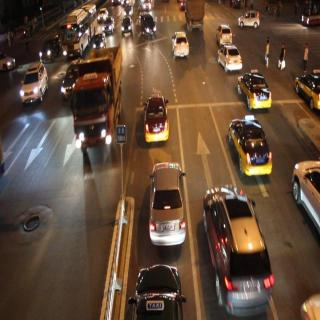BigCar: (68, 46, 130, 146), (67, 2, 96, 54), (186, 0, 207, 37)
Car: (202, 187, 274, 318), (148, 159, 188, 244), (229, 112, 270, 183), (133, 262, 180, 320), (291, 148, 320, 242), (239, 64, 275, 113), (140, 97, 173, 146), (295, 66, 320, 114), (235, 0, 270, 34), (61, 60, 88, 100), (26, 58, 51, 100), (216, 40, 244, 75), (173, 33, 192, 66), (211, 23, 233, 51), (42, 32, 59, 64), (90, 26, 108, 54), (139, 11, 155, 38), (104, 14, 116, 36), (122, 19, 136, 35)
